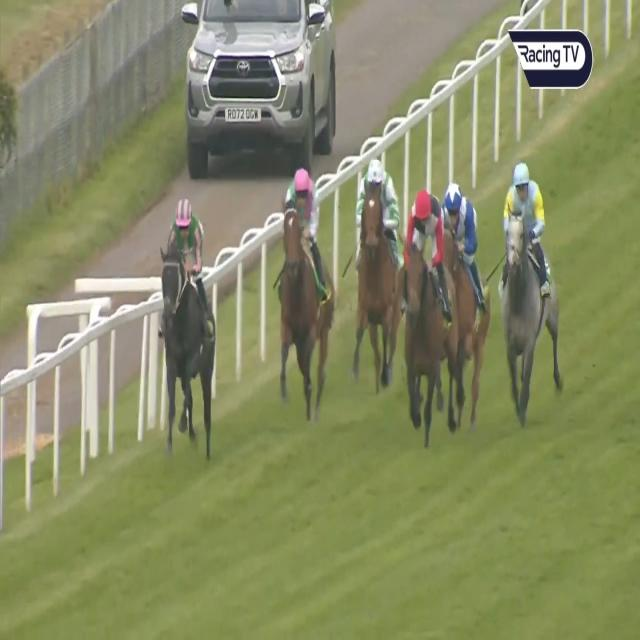horses-racing: (504, 158, 562, 424), (159, 198, 217, 453), (276, 170, 334, 409), (401, 184, 454, 429), (351, 157, 404, 390), (442, 178, 490, 424)
